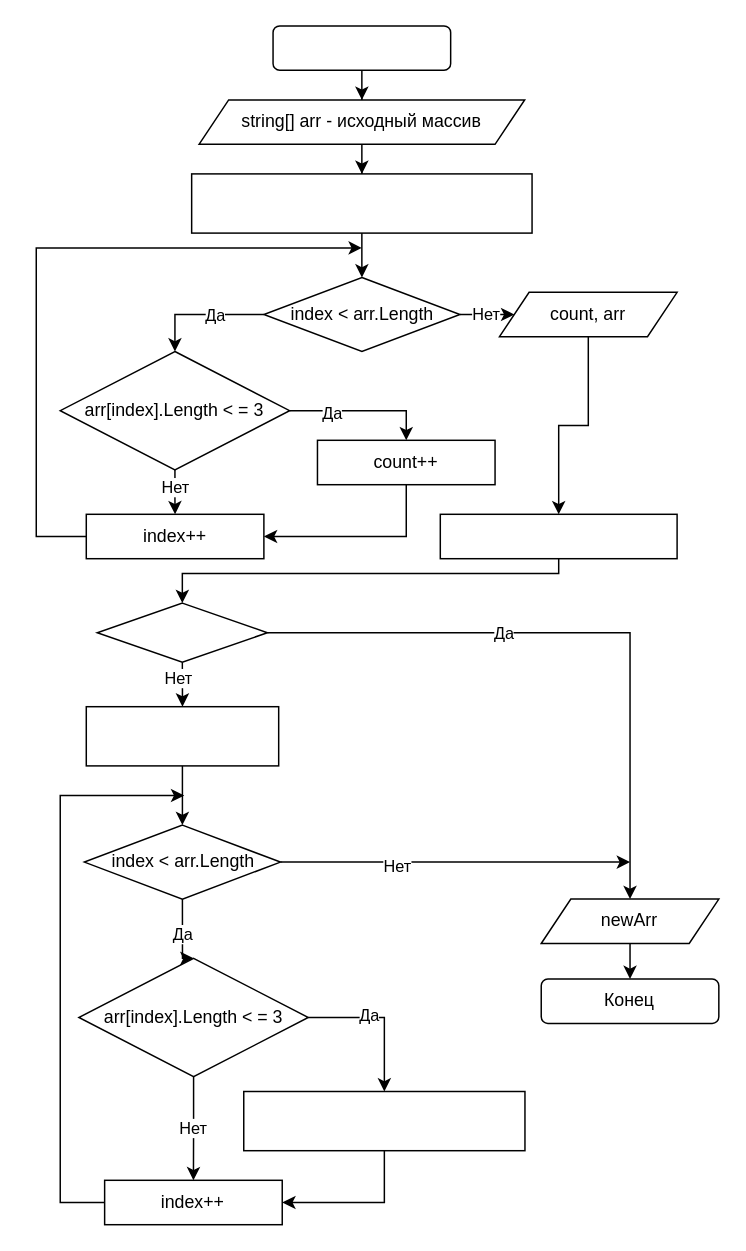
The diagram is 746 pixels wide and 1251 high, and some of its shapes have lost their labels. The shapes that lost their labels are listed below. From the top down, each one's box as (x1, y1, x2, y2) in pixels, then its label:
(272, 24, 451, 70): Начало
(190, 172, 532, 233): int count = 0 - размер нового массива int index = 0
(439, 513, 677, 559): newArr = new string[count]
(96, 602, 267, 662): count == 0
(85, 705, 279, 766): newIndex = 0 int index = 0
(242, 1090, 525, 1151): newArr[newIndex] = arr[index] newIndex++
